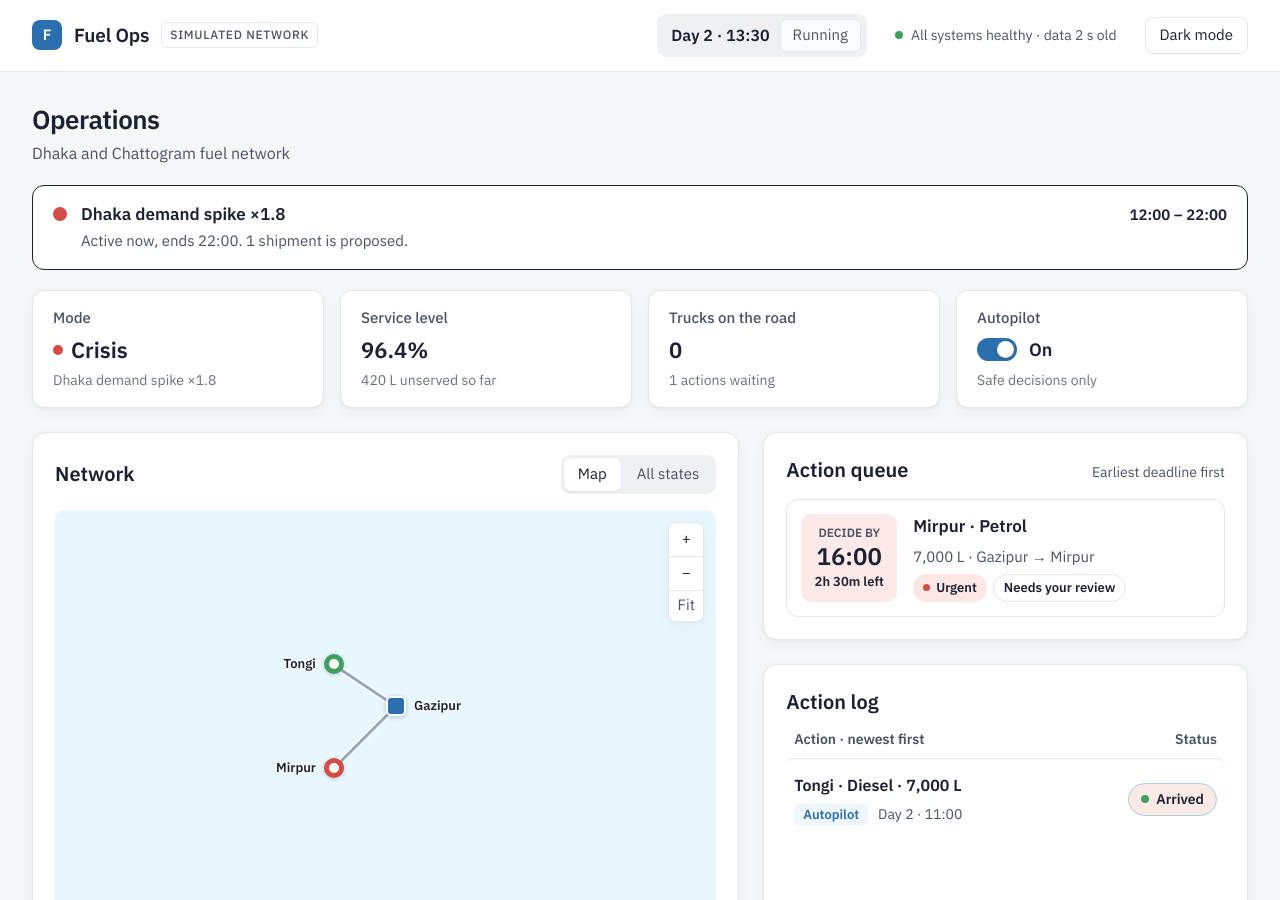
it: ConsolePage · live backend › shows template text when the explain API fails
The width and height of the screenshot is (1280, 900).
Click the button that starts with "DECIDE BY": [1006, 558] box [786,499,1225,616]
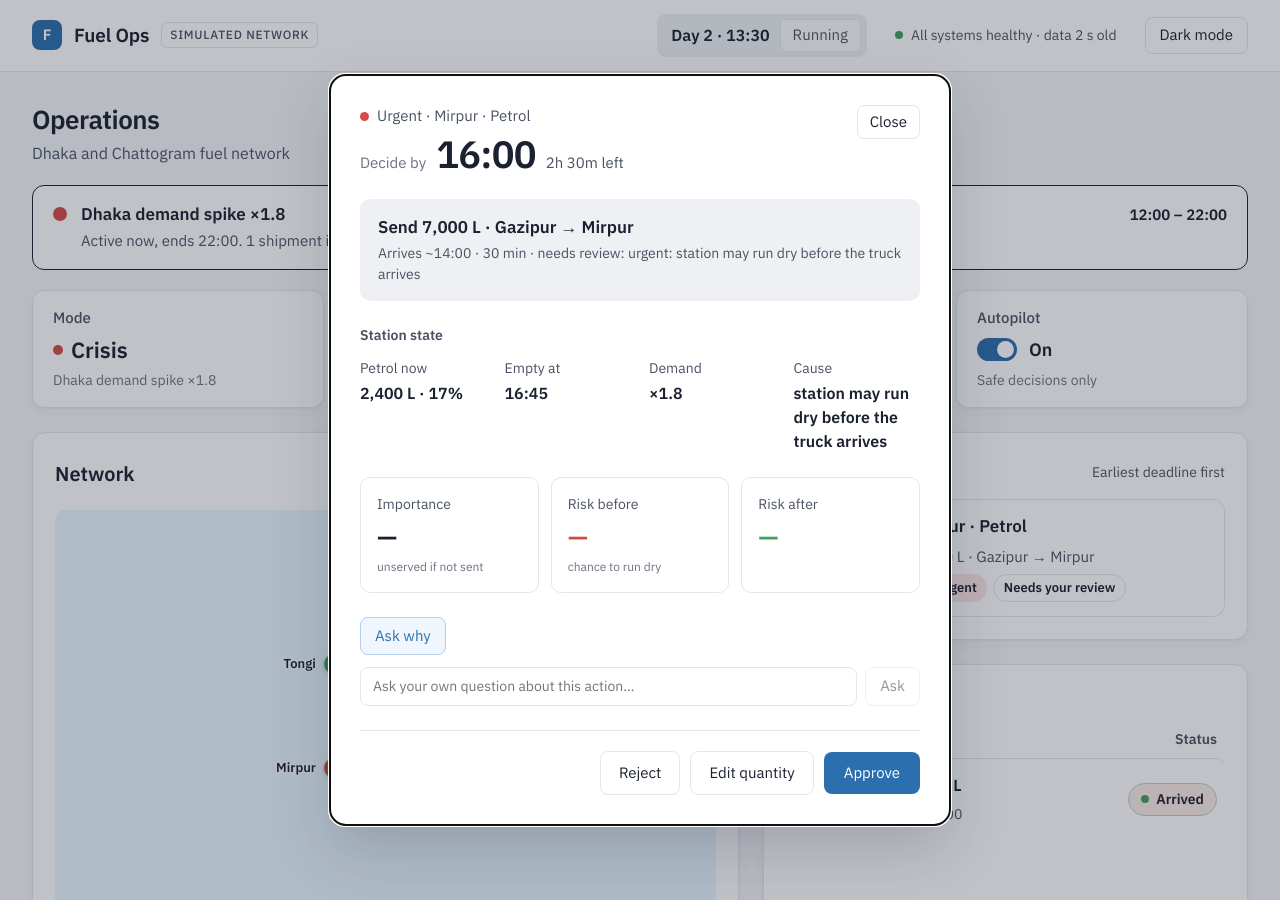
Click the button "Ask why": [403, 636] box [360,617,446,655]
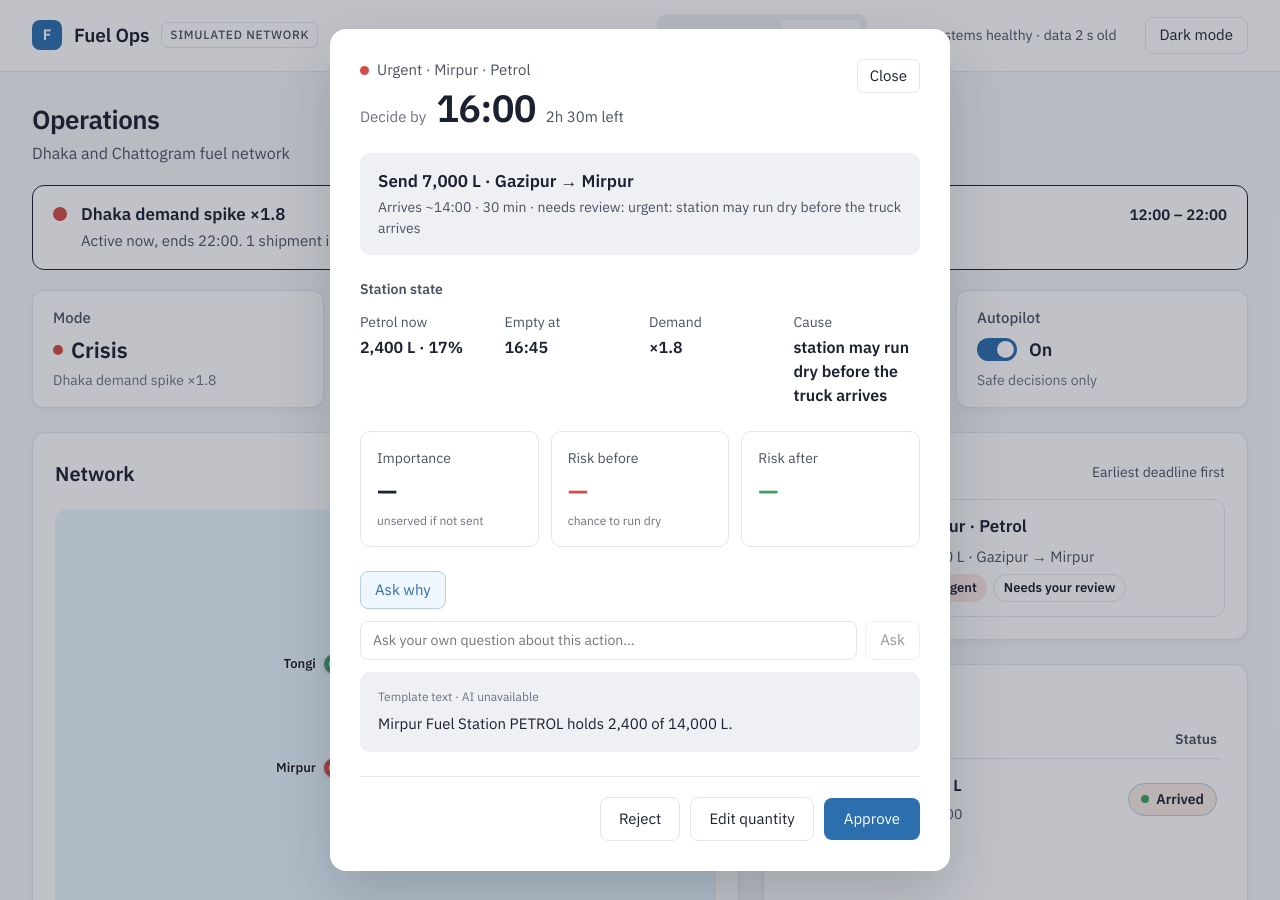
expect the text "Template text · AI unavailable" is shown: met, box [378,689,539,704]
expect the text "Mirpur Fuel Station PETROL holds 2,400 of 14,000 L." is shown: met, box [378,714,733,733]
